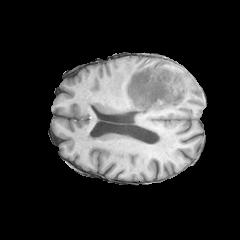glioma: (110, 60, 197, 113)
